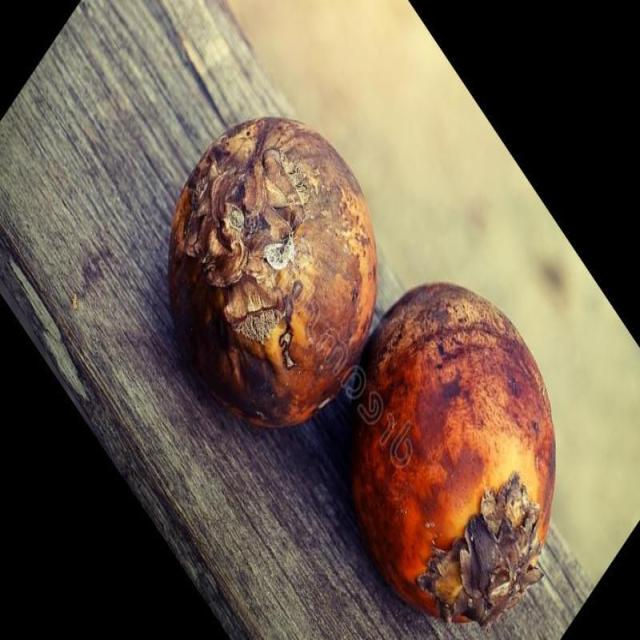damaged: (352, 283, 555, 627), (168, 118, 376, 426)
